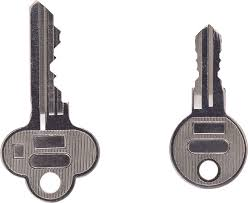key: (2, 1, 247, 203)
